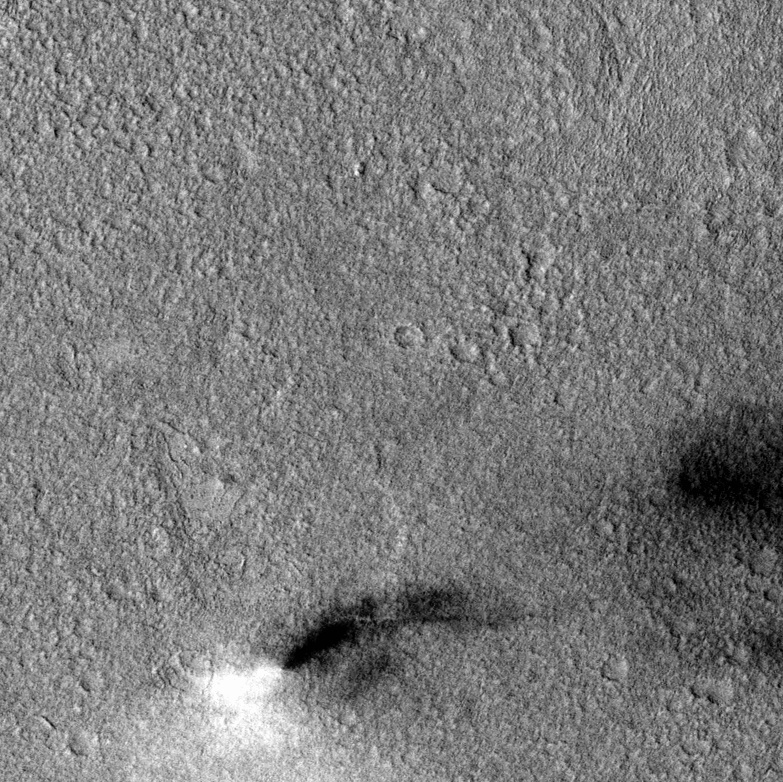dust_devil: (186, 576, 527, 753)
